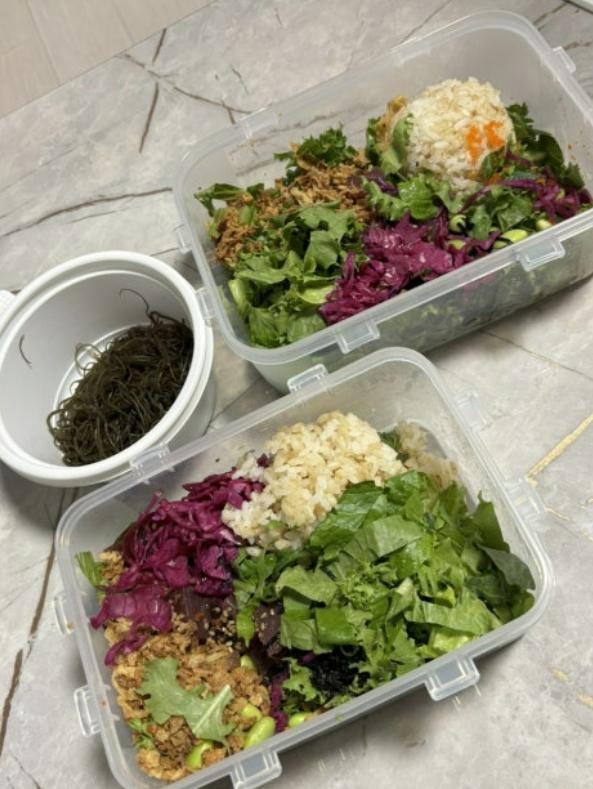Lunch Box: (55, 348, 552, 788), (173, 11, 592, 392)
cup: (0, 250, 215, 487)
